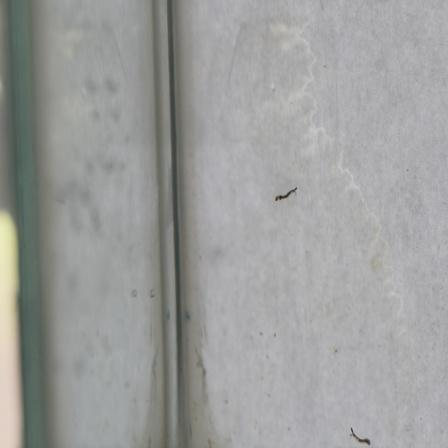Jentik-Nyamuk: (347, 423, 374, 448), (272, 184, 301, 206)
